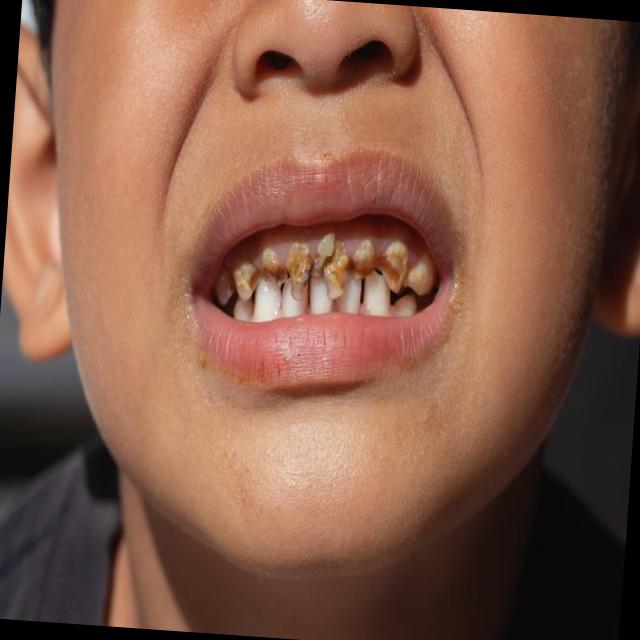caries: (281, 238, 317, 301), (314, 238, 350, 298), (376, 240, 414, 290), (226, 252, 258, 298), (346, 238, 377, 280), (408, 252, 437, 296), (258, 245, 284, 285)
